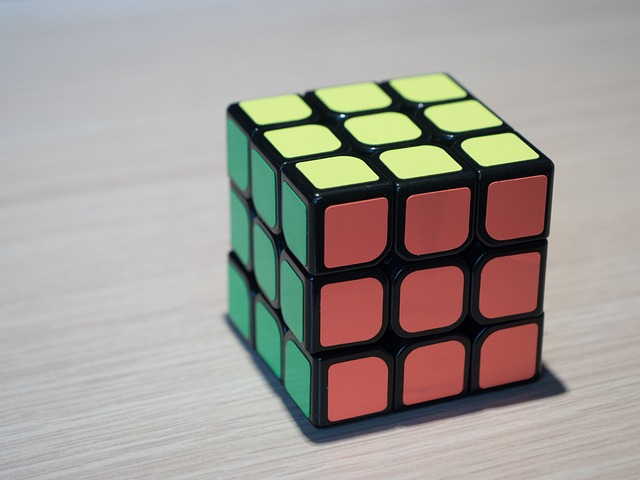cube: (223, 70, 557, 434)
